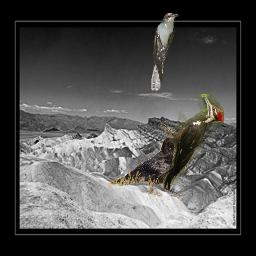Crow: (108, 137, 188, 197)
Cuckoo: (150, 12, 179, 91)
Woodpecker: (158, 94, 224, 192)
